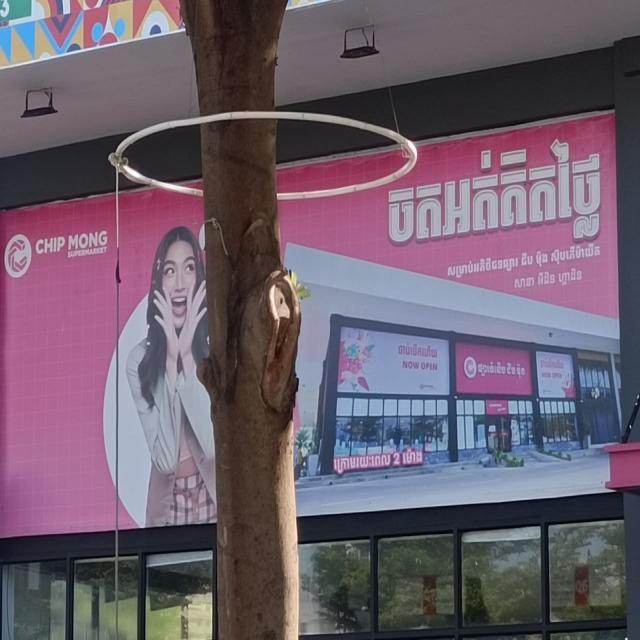2: (512, 265, 585, 294)
3: (444, 241, 603, 283)
Yolov11_80vkh: (376, 133, 611, 260), (329, 451, 393, 481), (476, 360, 528, 381), (397, 339, 440, 363), (400, 444, 424, 467)
